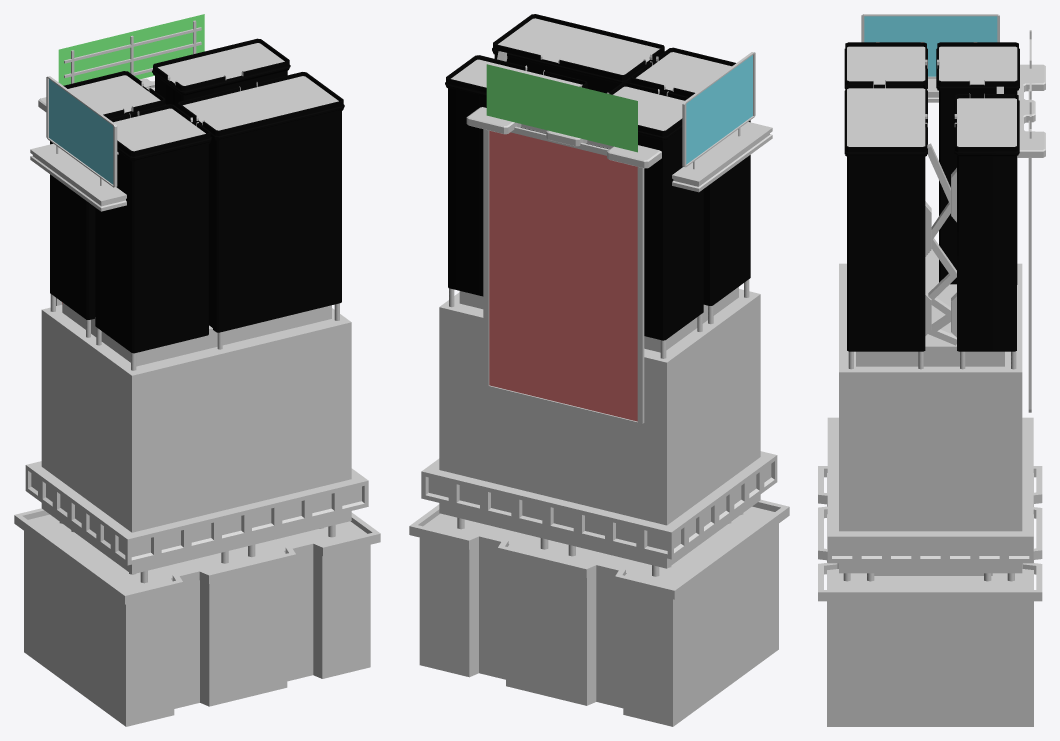
Rendered from building01.fbx.
3 renders of one model, left to right at view 1: azimuth 30°, elevation 25°; view 2: azimuth 150°, elevation 25°; view 3: azimuth 270°, elevation 25°, orthographic. The views are drawn at different scales.
Parts seen in each view (by area): view 1: building01, 对象001; view 2: building01, 对象001; view 3: building01, 对象001.
Boxes of the visible parts, x1=… form: building01: x1=14, y1=14, x2=380, y2=726; 对象001: x1=68, y1=43, x2=338, y2=151; building01: x1=409, y1=14, x2=789, y2=726; 对象001: x1=451, y1=18, x2=731, y2=130; building01: x1=818, y1=14, x2=1045, y2=726; 对象001: x1=847, y1=46, x2=1017, y2=146.
Bounding box in the file's own units: 6319 × 13833 × 4746.
